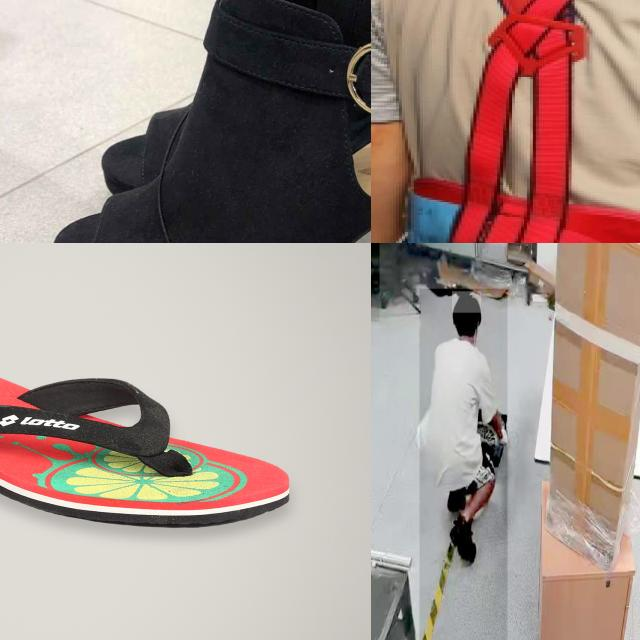Harness: (451, 0, 640, 243)
Sandals: (38, 0, 371, 243), (0, 363, 293, 529)
head_nohelmet: (452, 292, 482, 314)
person: (419, 288, 508, 640)
shoes: (446, 508, 480, 572)
